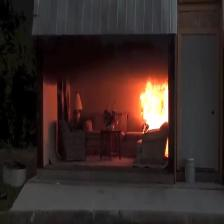fire: (140, 82, 168, 130)
